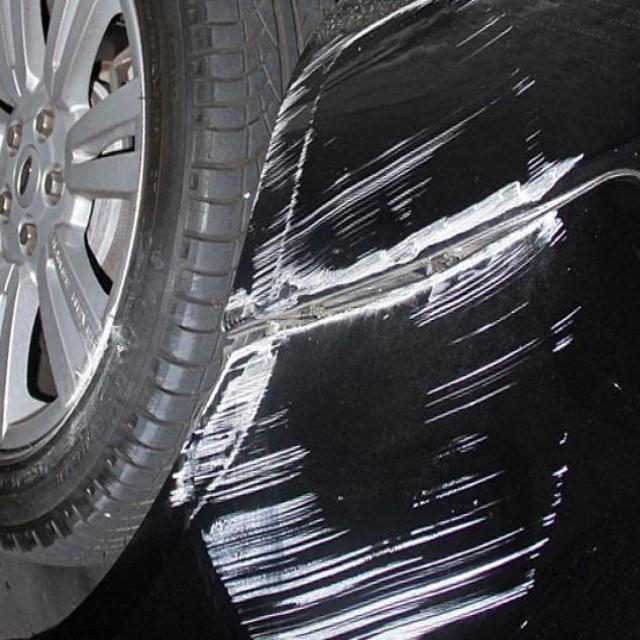scratch: (160, 10, 586, 640)
